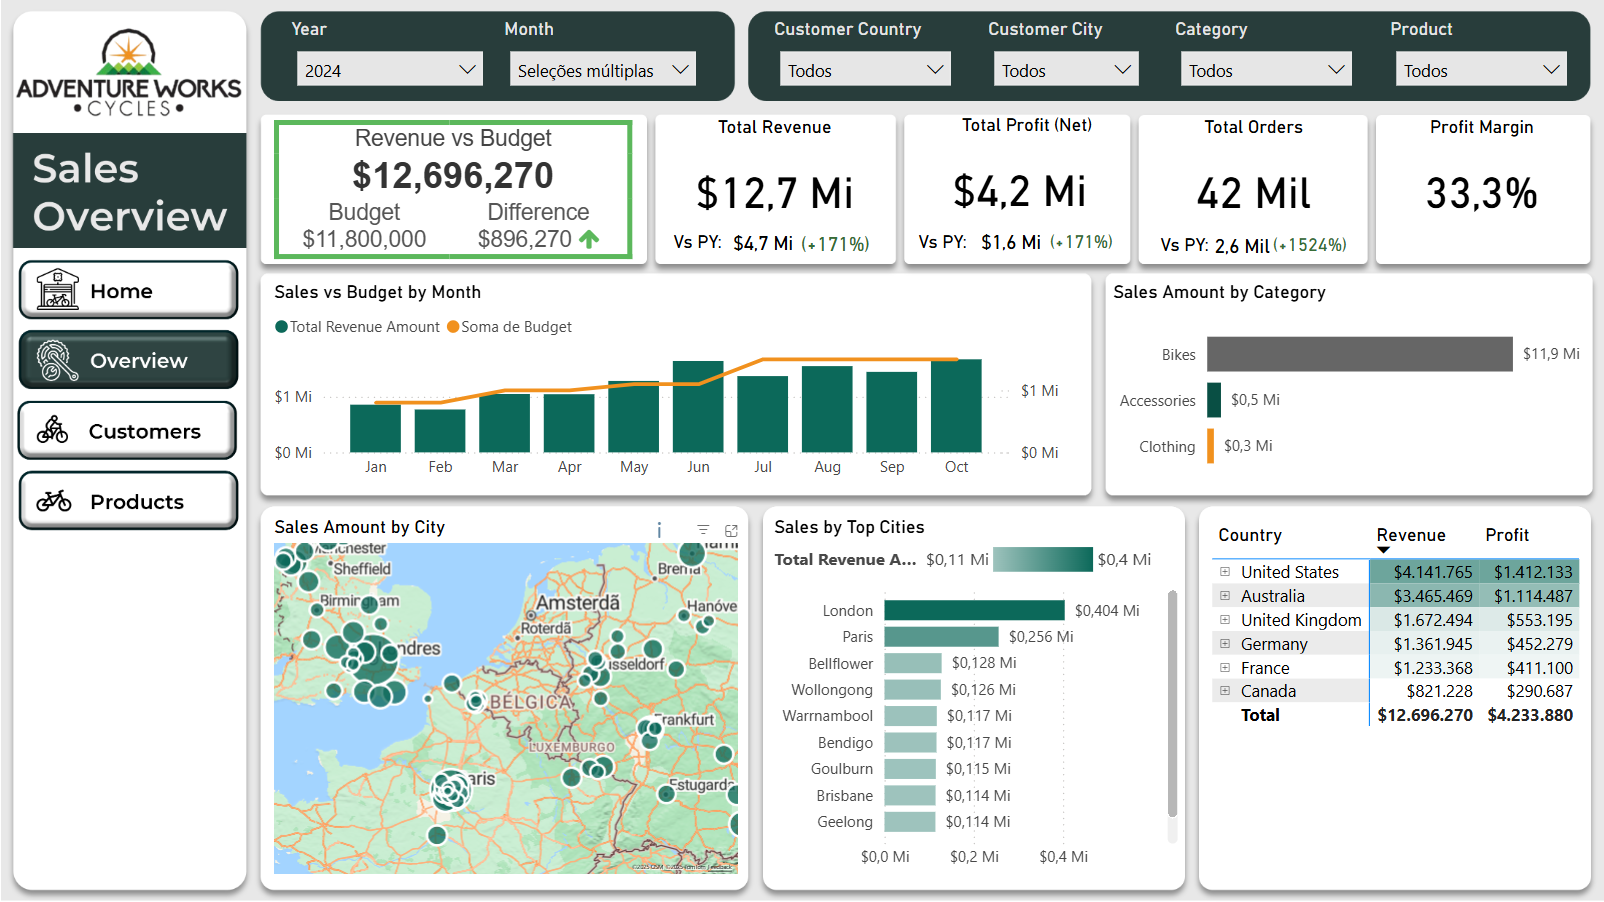

What the dashboard file says about the page in this screenshot:
{"tool":"powerbi","page":{"name":"Sales Overview","canvas":[1280,720],"ordinal":1},"visuals":[{"type":"BBED0A4D4D8D44CE93CF2DAFADEE466C","title":"Sales vs Budget","fields":{"actual":["Measures_Table.Total Sales Amount"],"target1":["Measures_Table.Total_Budget_Amount"],"target2":["DimCalendar_Calculated.Sales - Budget"]},"box":[213,93,296,118],"z":0},{"type":"cardVisual","title":"Total Revenue","fields":{"Data":["Measures_Table.Total Revenue Amount"]},"box":[522,93,192.7,90.9],"z":0,"group":"g1"},{"type":"textbox","title":"Vs PY:","box":[532,185,51,20],"z":1000,"group":"g1"},{"type":"lineClusteredColumnComboChart","title":"Sales vs Budget by Month","fields":{"Category":["Calendar_Calculated.Month"],"Y":["Measures_Table.Total Sales Amount"],"Y2":["Sum(FactBudget.Budget)"]},"box":[213,225,636,166],"z":1000},{"type":"card","fields":{"Values":["Measures_Table.Total Revenue Previous Year"]},"box":[572,179.2,73.8,31.1],"z":2000,"group":"g1"},{"type":"azureMap","title":"Sales Amount by City","fields":{"Category":["DimCustomer.City"],"Size":["Measures_Table.Total Sales Amount"]},"box":[213,413,380,290],"z":2000},{"type":"cardVisual","title":"Profit Margin ","fields":{"Data":["DimCalendar_Calculated.% Profit"]},"box":[1107,93,150,95],"z":3000},{"type":"card","fields":{"Values":["Measures_Table.Edit_Revenue % YOY"]},"box":[628,179,77,32],"z":3000,"group":"g1"},{"type":"group","id":"g1","title":"Group 1","box":[522,93,192.7,118],"z":4000},{"type":"group","id":"g2","title":"Group 2","box":[727,95,176.4,115.3],"z":5000},{"type":"group","id":"g3","title":"Group 3","box":[918,93,164,120],"z":6000},{"type":"cardVisual","title":"Total Orders","fields":{"Data":["Measures_Table.Total Orders"]},"box":[918,93,164,90],"z":7000,"group":"g3"},{"type":"barChart","title":"Sales Amount by Category","fields":{"Category":["vwProducts.Category"],"Y":["Measures_Table.Total Revenue Amount"]},"box":[883,225,384,166],"z":7000},{"type":"pivotTable","fields":{"Rows":["DimCustomer.Country","DimCustomer.City"],"Values":["Measures_Table.Total Revenue Amount","Measures_Table.Total Profit"]},"box":[962,413,305,181],"z":8000},{"type":"slicer","title":"Month","fields":{"Values":["Calendar_Calculated.Month"]},"box":[396.4,15.5,168.2,53.6],"z":9000},{"type":"slicer","title":"Customer City","fields":{"Values":["DimCustomer.City"]},"box":[782.8,15,135,54],"z":10000},{"type":"cardVisual","title":"Total Profit (Net)","fields":{"Data":["DimCalendar_Calculated.Total Profit"]},"box":[732.5,95,170.9,92.7],"z":10000,"group":"g2"},{"type":"textbox","title":"Vs PY:","box":[920.1,187,51,20],"z":10000,"group":"g3"},{"type":"slicer","title":"Year","fields":{"Values":["Calendar_Calculated.Year"]},"box":[226.4,15.5,168.2,53.6],"z":11000},{"type":"card","fields":{"Values":["Measures_Table.Total Orders PY"]},"box":[951,181.1,80,32],"z":11000,"group":"g3"},{"type":"textbox","title":"Vs PY:","box":[727,185,51,20],"z":11000,"group":"g2"},{"type":"slicer","title":"Customer Country","fields":{"Values":["DimCustomer.Country"]},"box":[612,15,156,61],"z":12000},{"type":"card","fields":{"Values":["Measures_Table.Total Profit Previous Year"]},"box":[769.7,179.2,73.8,31.1],"z":12000,"group":"g2"},{"type":"card","fields":{"Values":["Measures_Table.Edit_Orders"]},"box":[1010,181,70,31],"z":12000,"group":"g3"},{"type":"slicer","title":"Category","fields":{"Values":["DimProducts.Category"]},"box":[932.5,15.5,156.4,60.9],"z":13000},{"type":"card","fields":{"Values":["Measures_Table.Edit_Profit % YOY"]},"box":[829,179,66,31],"z":13000,"group":"g2"},{"type":"slicer","title":"Product","fields":{"Values":["DimProducts.ProductName"]},"box":[1103.6,15.5,156.4,60.9],"z":14000},{"type":"clusteredBarChart","title":"Sales by Top Cities","fields":{"Y":["Measures_Table.Total Sales Amount"],"Category":["DimCustomer.City"]},"box":[612,413,332,290],"z":15000},{"type":"actionButton","box":[11.8,205.5,180.9,51.8],"z":15001},{"type":"actionButton","box":[11.8,315.5,180.9,51.8],"z":15002},{"type":"actionButton","box":[11.8,373.6,180.9,51.8],"z":15003},{"type":"actionButton","box":[60.9,435.5,83.6,42.7],"z":15004}]}

Visuals, with their boxes in screenshot pixels (x1, y1, x2, y2), scaled from the page's 1280x720 canvas onto the 1604x902 screenshot:
"Sales vs Budget" BBED0A4D4D8D44CE93CF2DAFADEE466C: select_region(267, 117, 638, 264)
"Total Revenue" cardVisual: select_region(654, 117, 896, 230)
"Vs PY:" textbox: select_region(667, 232, 731, 257)
"Sales vs Budget by Month" lineClusteredColumnComboChart: select_region(267, 282, 1064, 490)
card - Measures_Table.Total Revenue Previous Year: select_region(717, 224, 809, 263)
"Sales Amount by City" azureMap: select_region(267, 517, 743, 881)
"Profit Margin " cardVisual: select_region(1387, 117, 1575, 236)
card - Measures_Table.Edit_Revenue % YOY: select_region(787, 224, 883, 264)
"Group 1" group: select_region(654, 117, 896, 264)
"Group 2" group: select_region(911, 119, 1132, 263)
"Group 3" group: select_region(1150, 117, 1356, 267)
"Total Orders" cardVisual: select_region(1150, 117, 1356, 229)
"Sales Amount by Category" barChart: select_region(1107, 282, 1588, 490)
pivotTable - DimCustomer.Country x DimCustomer.City: select_region(1206, 517, 1588, 744)
"Month" slicer: select_region(497, 19, 708, 87)
"Customer City" slicer: select_region(981, 19, 1150, 86)
"Total Profit (Net)" cardVisual: select_region(918, 119, 1132, 235)
"Vs PY:" textbox: select_region(1153, 234, 1217, 259)
"Year" slicer: select_region(284, 19, 494, 87)
card - Measures_Table.Total Orders PY: select_region(1192, 227, 1292, 267)
"Vs PY:" textbox: select_region(911, 232, 975, 257)
"Customer Country" slicer: select_region(767, 19, 962, 95)
card - Measures_Table.Total Profit Previous Year: select_region(965, 224, 1057, 263)
card - Measures_Table.Edit_Orders: select_region(1266, 227, 1353, 266)
"Category" slicer: select_region(1169, 19, 1365, 96)
card - Measures_Table.Edit_Profit % YOY: select_region(1039, 224, 1122, 263)
"Product" slicer: select_region(1383, 19, 1579, 96)
"Sales by Top Cities" clusteredBarChart: select_region(767, 517, 1183, 881)
actionButton: select_region(15, 257, 241, 322)
actionButton: select_region(15, 395, 241, 460)
actionButton: select_region(15, 468, 241, 533)
actionButton: select_region(76, 546, 181, 599)
